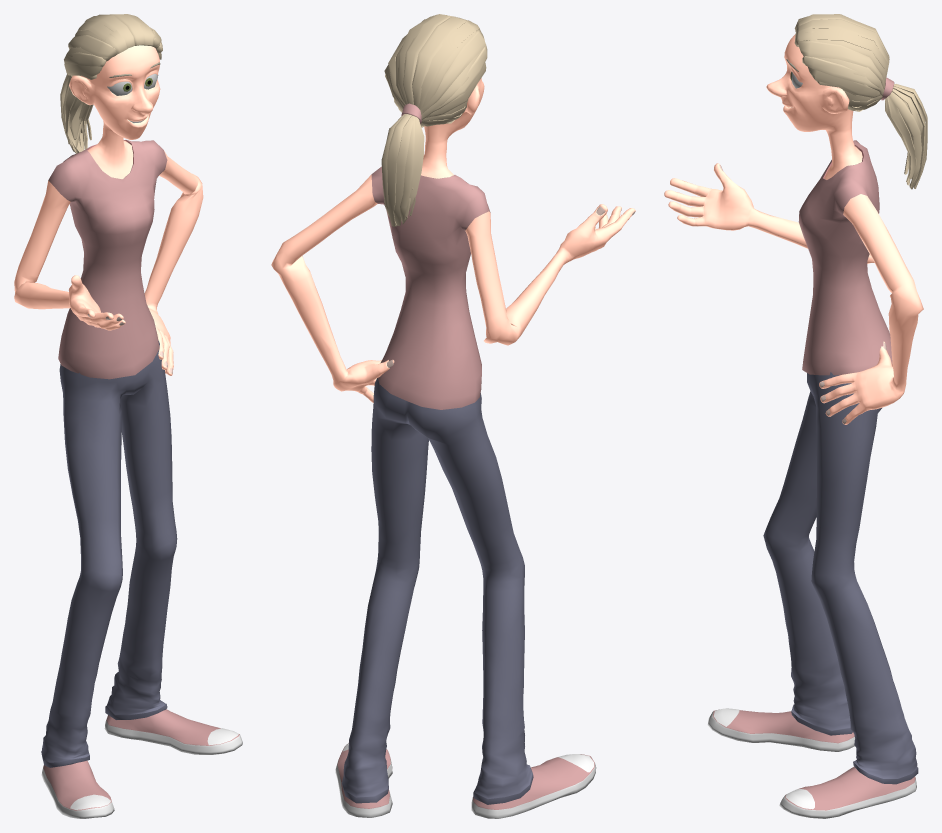
Rendered from female_goodAnswer.fbx.
The picture shows the model from 3 angles, left to right: view 1: azimuth 30°, elevation 25°; view 2: azimuth 150°, elevation 25°; view 3: azimuth 270°, elevation 25°; orthographic projection. The views are drawn at different scales.
Parts seen in each view (by area): view 1: eyeBall1Lf; view 2: eyeBall1Lf; view 3: eyeBall1Lf.
Part boxes in pixels (x1,y1,x2,y2): eyeBall1Lf: [14, 14, 242, 818]; eyeBall1Lf: [271, 14, 635, 818]; eyeBall1Lf: [664, 14, 927, 818].
Bounding box in the file's own units: 2.78 × 8.66 × 2.76.
